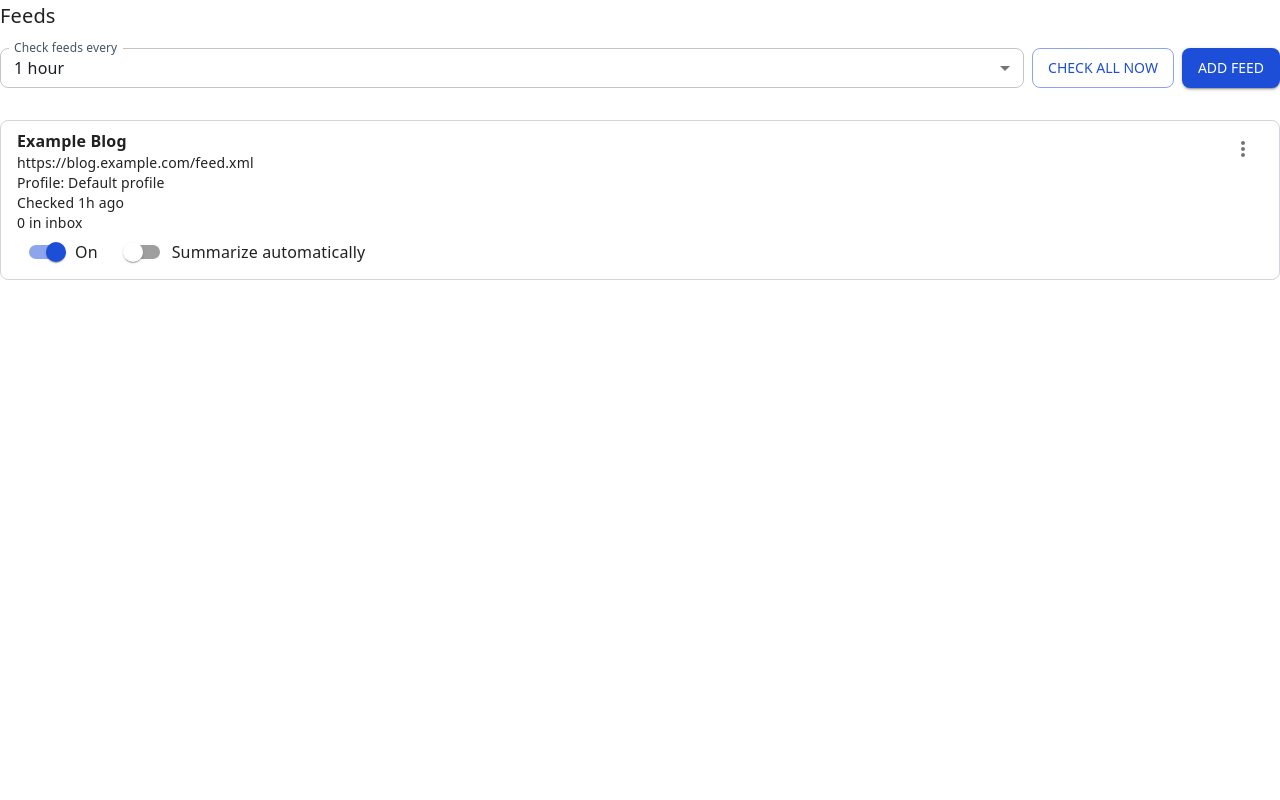
Test: FeedSettings › closes the Add dialog on success and when cancelled
Click the button "Add feed" at {"x": 1231, "y": 68}, box top-left (1182, 48), bottom-right (1279, 88)
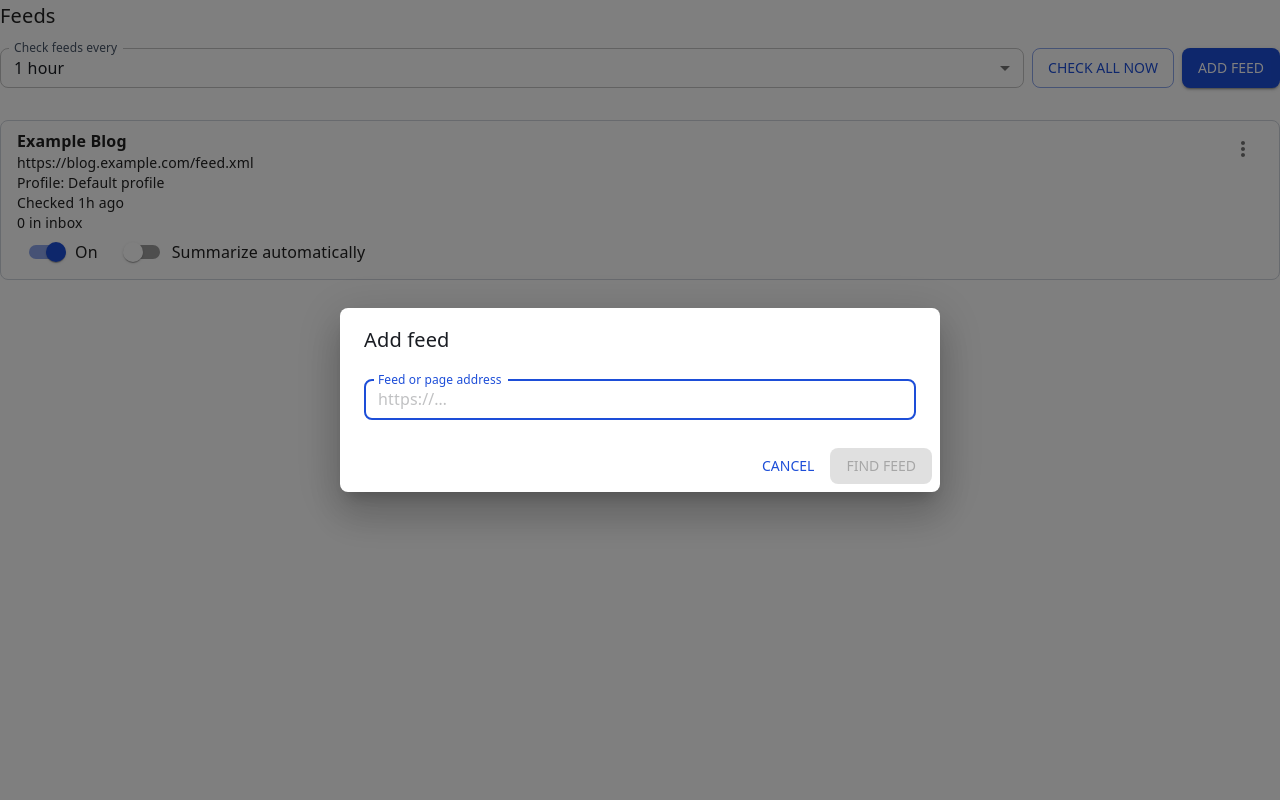
Click the button "Cancel" at {"x": 788, "y": 466}, box top-left (754, 448), bottom-right (822, 484)
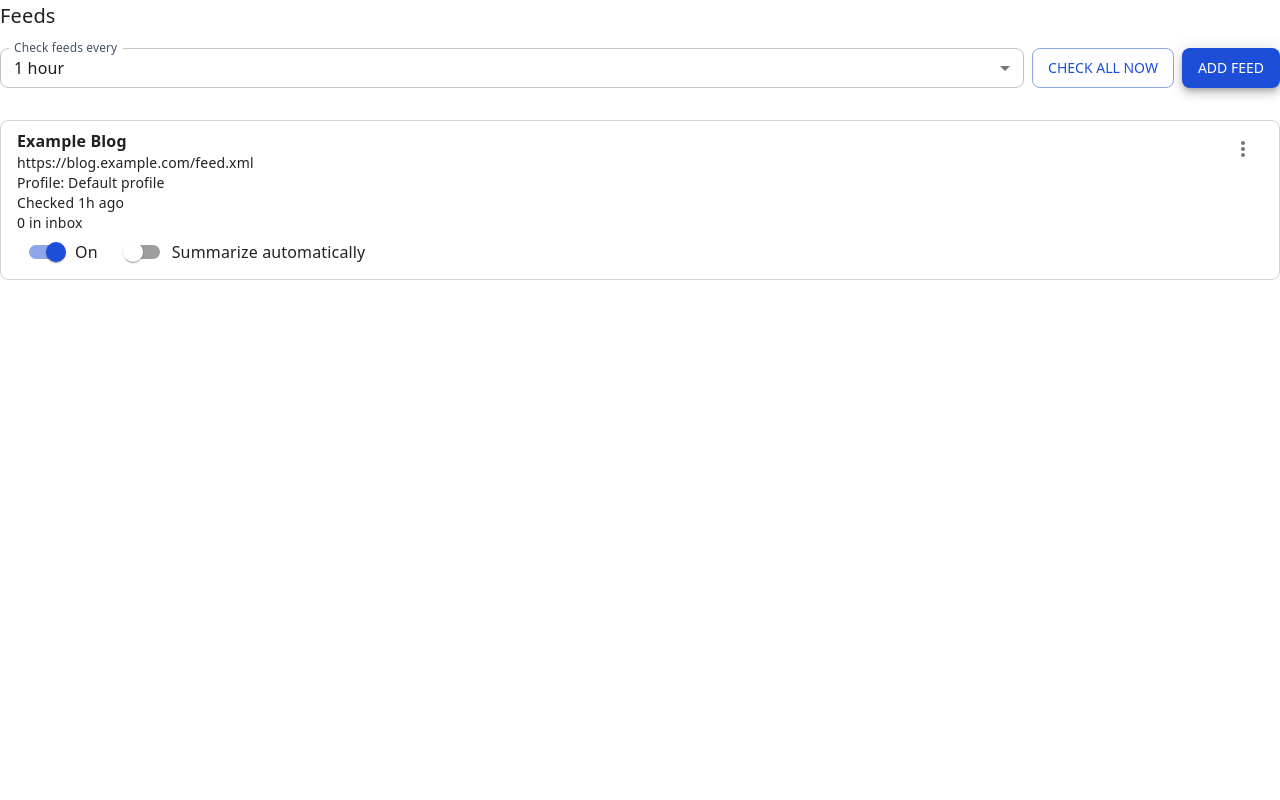
Now the dialog is gone
